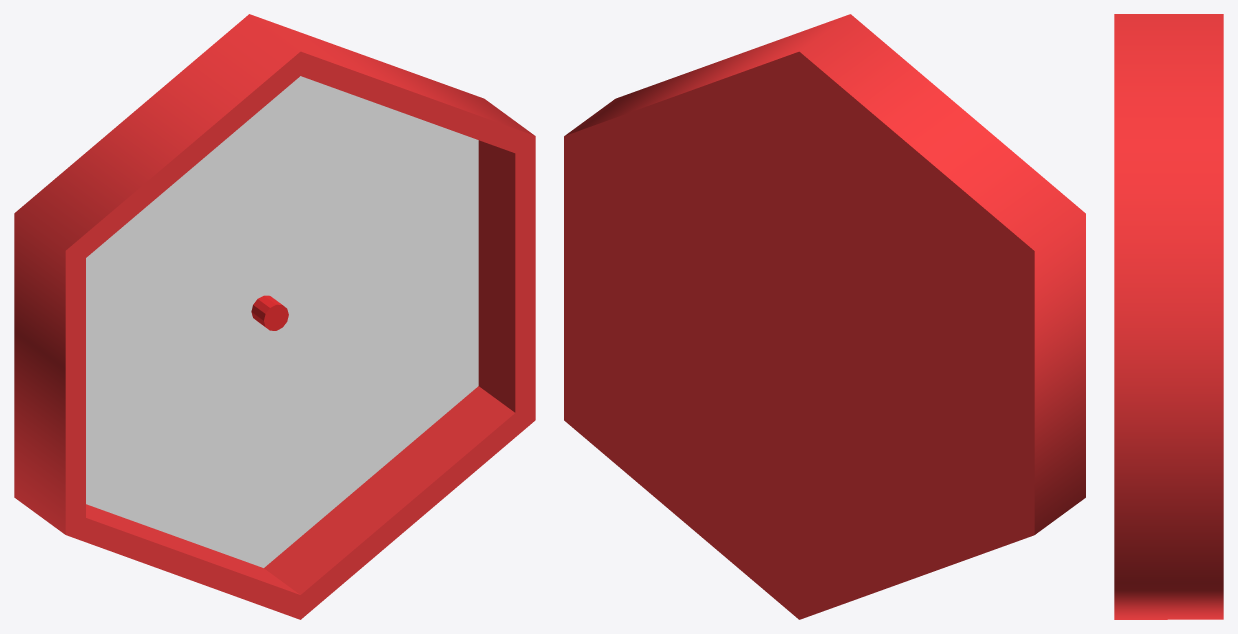
File: Itr_Obj_clock2_05.FBX
The picture shows the model from 3 angles, left to right: view 1: azimuth 30°, elevation 25°; view 2: azimuth 150°, elevation 25°; view 3: azimuth 270°, elevation 25°; orthographic projection. The views are drawn at different scales.
Parts seen in each view (by area): view 1: Itr_Obj_clock2_05; view 2: Itr_Obj_clock2_05; view 3: Itr_Obj_clock2_05.
Boxes of the visible parts, left/top/right/bottom form: Itr_Obj_clock2_05: left=14, top=14, right=535, bottom=619; Itr_Obj_clock2_05: left=564, top=14, right=1085, bottom=619; Itr_Obj_clock2_05: left=1114, top=14, right=1223, bottom=619.
Size of the model in its own units: 10.59 by 12.23 by 2.
